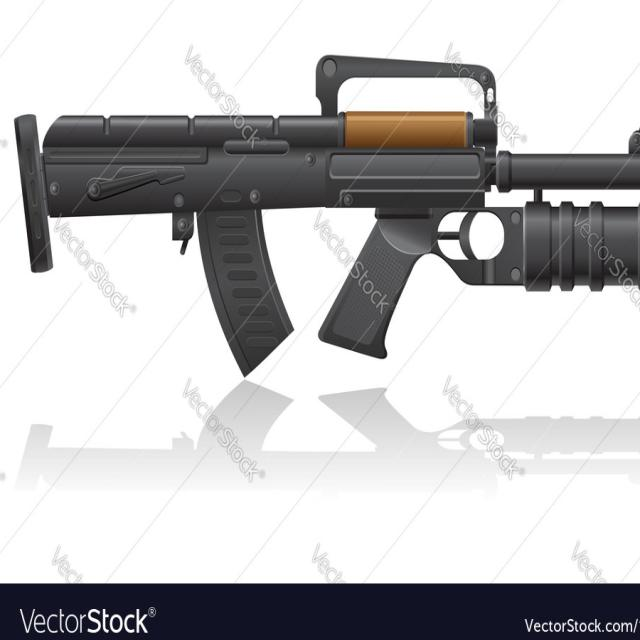Weapon: (15, 57, 640, 373)
